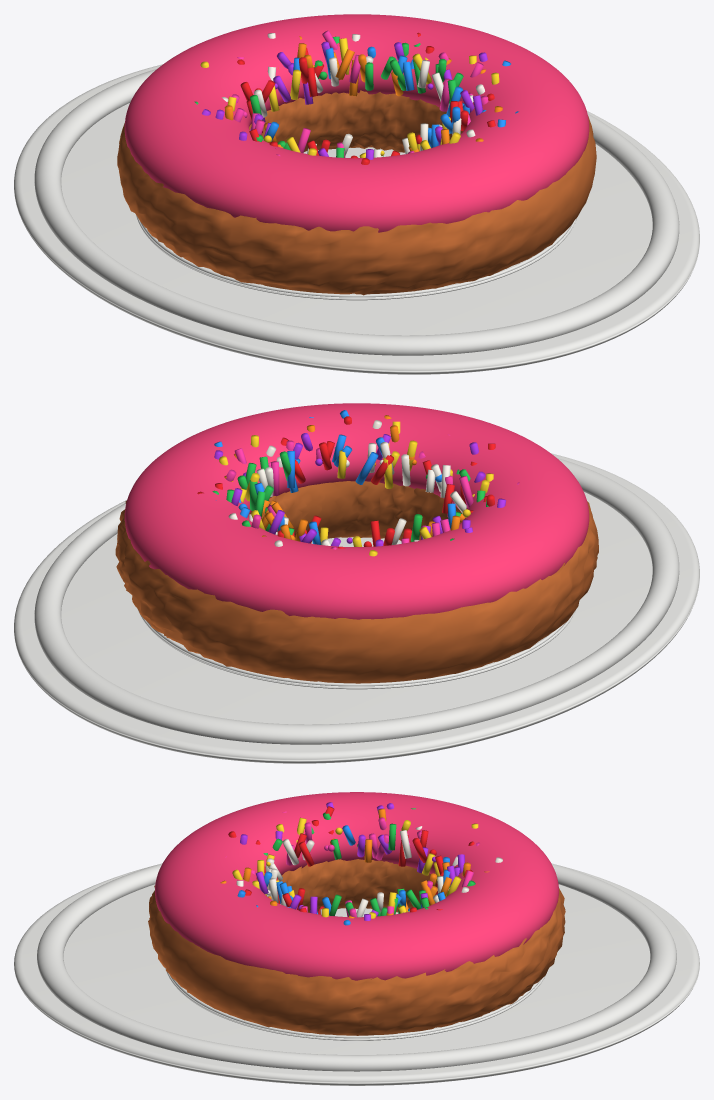
File: RealisticDonut_With_Plate.glb
The picture shows the model from 3 angles, top to bottom: view 1: azimuth 30°, elevation 25°; view 2: azimuth 150°, elevation 25°; view 3: azimuth 270°, elevation 25°; orthographic projection. The views are drawn at different scales.
Visible parts, largest first — view 1: PINK_STRAWBERRY_FROSTING, MODERN_CERAMIC_PLATE, DONUT_DOUGH, MODERN_PLATE_RAISED_RIM, PLATE_SHALLOW_CENTER, PLATE_INNER_DETAIL; view 2: PINK_STRAWBERRY_FROSTING, MODERN_CERAMIC_PLATE, DONUT_DOUGH, MODERN_PLATE_RAISED_RIM, PLATE_SHALLOW_CENTER, PLATE_INNER_DETAIL; view 3: PINK_STRAWBERRY_FROSTING, MODERN_CERAMIC_PLATE, DONUT_DOUGH, MODERN_PLATE_RAISED_RIM, PLATE_SHALLOW_CENTER, PLATE_INNER_DETAIL.
Boxes of the visible parts, x1,y1,x2,y2 form: PINK_STRAWBERRY_FROSTING: [124, 14, 589, 232]; MODERN_CERAMIC_PLATE: [14, 64, 699, 374]; DONUT_DOUGH: [117, 90, 596, 295]; MODERN_PLATE_RAISED_RIM: [34, 69, 679, 355]; PLATE_SHALLOW_CENTER: [136, 147, 577, 300]; PLATE_INNER_DETAIL: [139, 220, 573, 297]; PINK_STRAWBERRY_FROSTING: [124, 403, 589, 619]; MODERN_CERAMIC_PLATE: [14, 453, 699, 763]; DONUT_DOUGH: [115, 481, 598, 683]; MODERN_PLATE_RAISED_RIM: [34, 458, 679, 744]; PLATE_SHALLOW_CENTER: [137, 537, 575, 689]; PLATE_INNER_DETAIL: [146, 621, 566, 686]; PINK_STRAWBERRY_FROSTING: [155, 792, 558, 980]; MODERN_CERAMIC_PLATE: [14, 865, 699, 1085]; DONUT_DOUGH: [148, 859, 565, 1035]; MODERN_PLATE_RAISED_RIM: [37, 863, 676, 1071]; PLATE_SHALLOW_CENTER: [165, 908, 547, 1040]; PLATE_INNER_DETAIL: [170, 975, 541, 1038].
Size of the model in its own units: 8.76 by 1.97 by 10.66.
